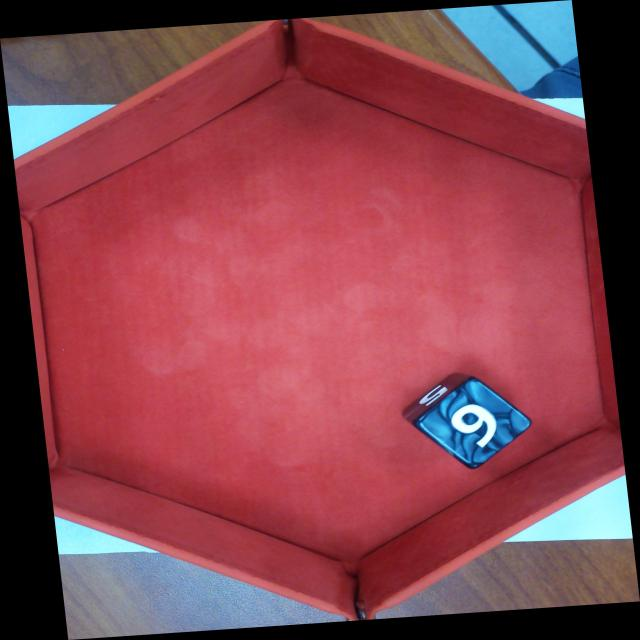dice: (410, 377, 538, 471)
